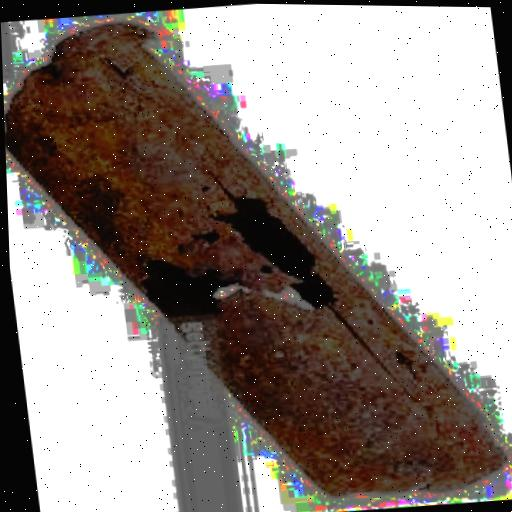corrosion: (6, 20, 506, 495)
